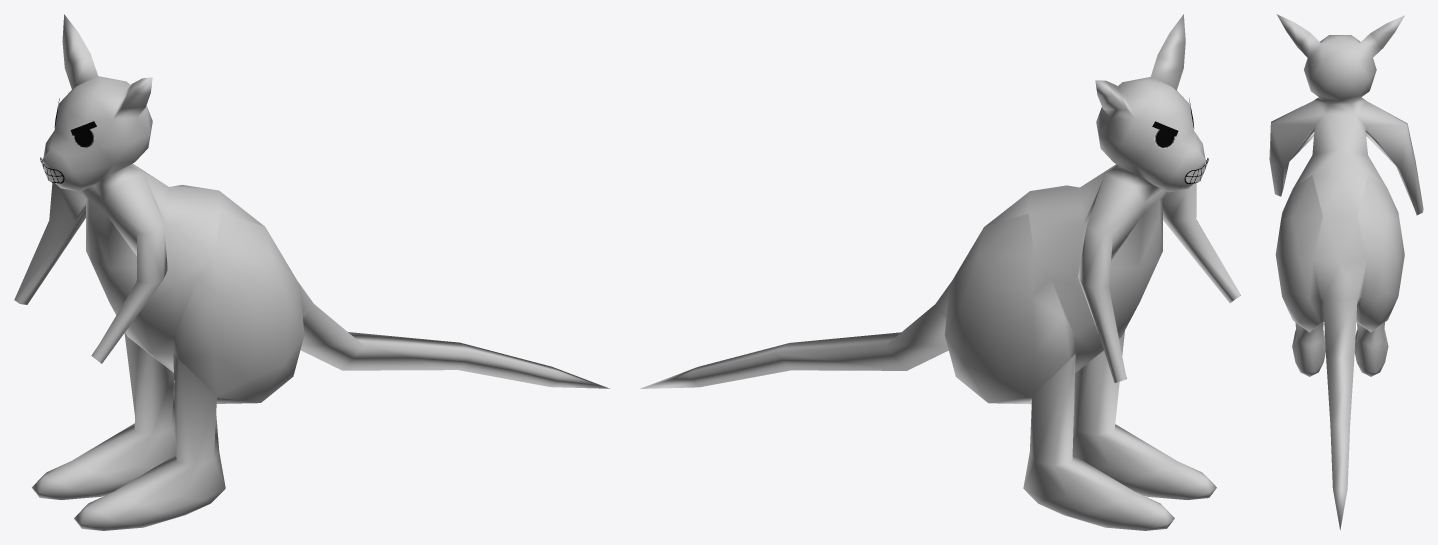
File: KangarooGame.fbx
3 views of the same model, side by side, from view 1: azimuth 30°, elevation 25°; view 2: azimuth 150°, elevation 25°; view 3: azimuth 270°, elevation 25° (orthographic). The views are drawn at different scales.
Visible parts, largest first — view 1: Icosphere.004; view 2: Icosphere.004; view 3: Icosphere.004.
Part boxes in pixels (left/top/right/bottom): Icosphere.004: left=14, top=14, right=609, bottom=530; Icosphere.004: left=640, top=14, right=1240, bottom=530; Icosphere.004: left=1269, top=14, right=1423, bottom=529.
Size of the model in its own units: 1308 by 1027 by 422.
